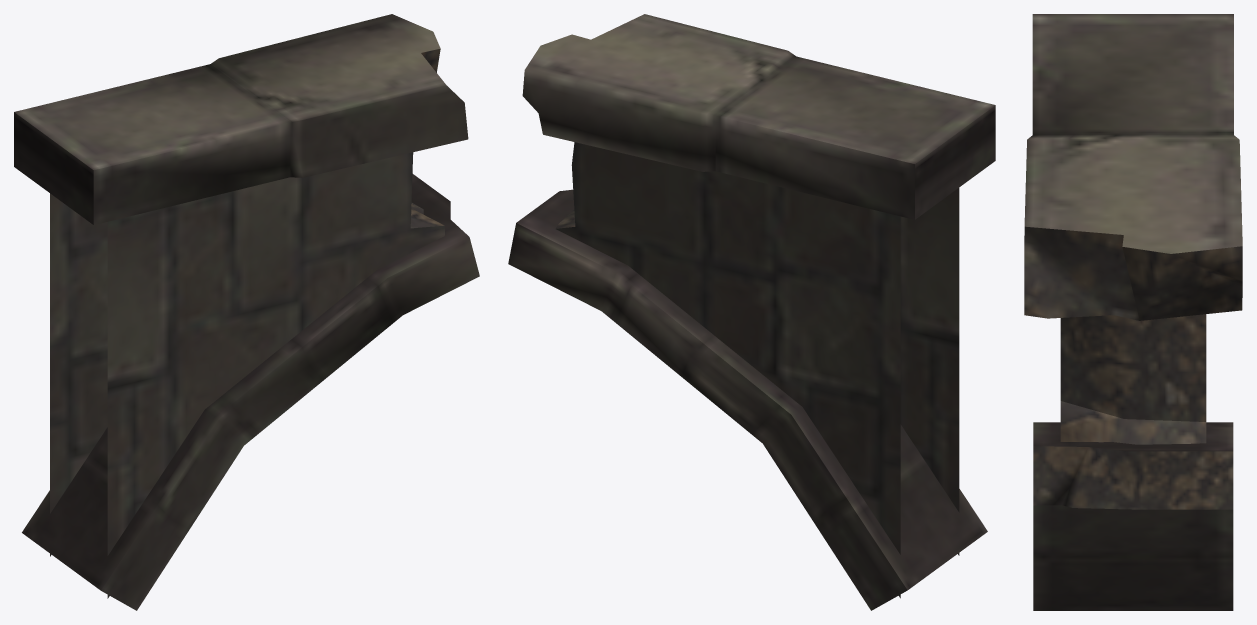
The model's file is jianzhu05.FBX.
3 views of the same model, side by side, from view 1: azimuth 30°, elevation 25°; view 2: azimuth 150°, elevation 25°; view 3: azimuth 270°, elevation 25° (orthographic). The views are drawn at different scales.
Parts seen in each view (by area): view 1: polySurface933; view 2: polySurface933; view 3: polySurface933.
Boxes of the visible parts, box(x1,y1,x2,y2) form: polySurface933: box(14, 14, 479, 610); polySurface933: box(508, 14, 995, 610); polySurface933: box(1024, 14, 1242, 610).
Bounding box in the file's own units: 15.29 × 16.52 × 5.71.
